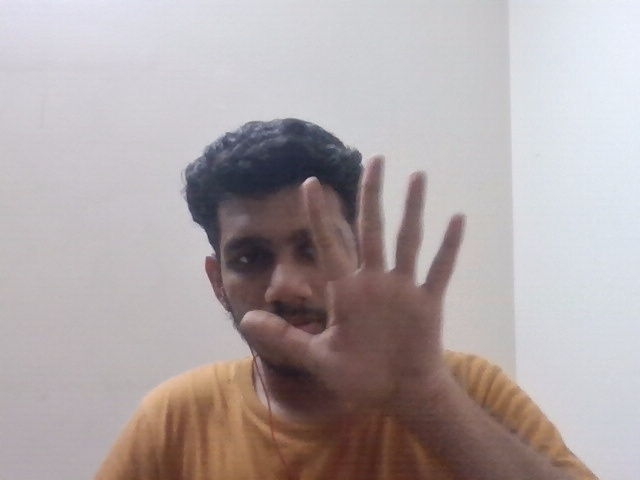hello: (241, 152, 469, 417)
